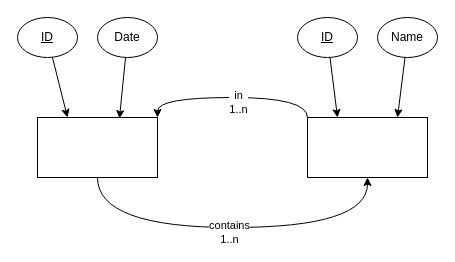
This 455x262 diagram has some shape labels left out. The shapes that lost their labels are listed below. From the top down, each one's centre as x and y in pixels, then its label:
[97,147]: Transaction
[367,147]: Product
